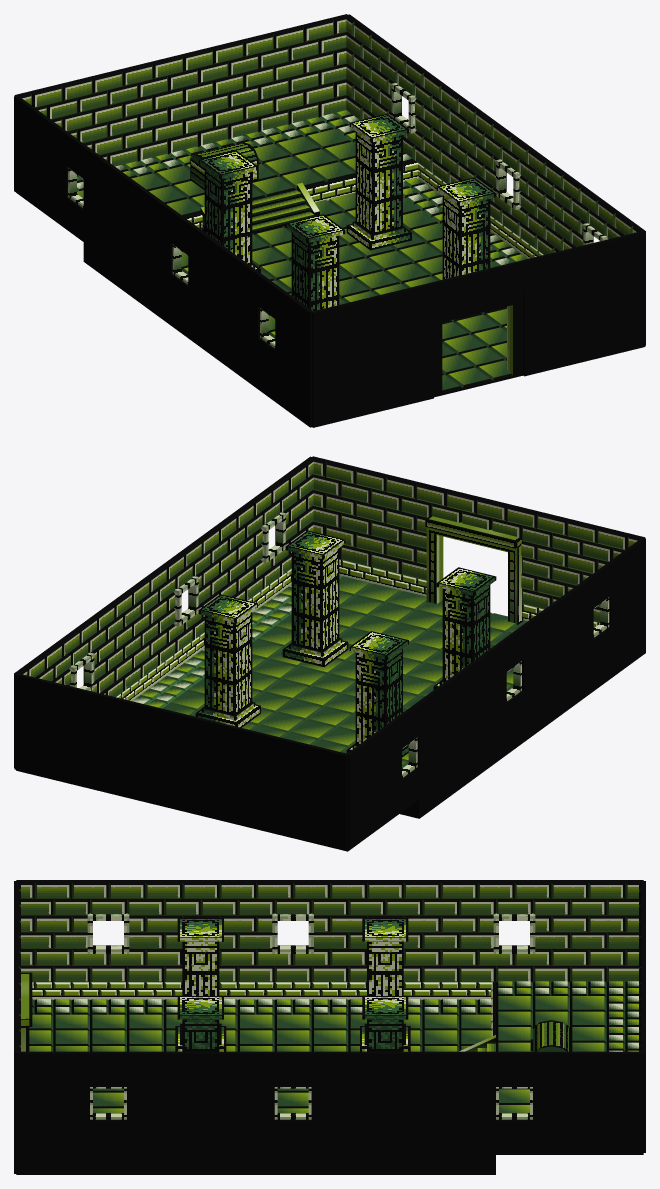
File: 3d_gameboy_style_dungeon_room.glb
3 renders of one model, top to bottom at view 1: azimuth 30°, elevation 25°; view 2: azimuth 150°, elevation 25°; view 3: azimuth 270°, elevation 25°, orthographic. The views are drawn at different scales.
Visible parts, largest first — view 1: cube_418, cube_229, cube_9, cube_235, cube_1, cube_5, cube_230, cube_10, cube_236, cube_2, cube_369, cube_231 (+116 smaller); view 2: cube_418, cube_5, cube_235, cube_1, cube_229, cube_234, cube_9, cube_230, cube_236, cube_2, cube_10, cube_275 (+136 smaller); view 3: cube_337, cube_340, cube_343, cube_359, cube_166, cube_168, cube_170, cube_173, cube_219, cube_221, cube_149, cube_172 (+165 smaller).
Boxes of the visible parts, box(x1,y1,x2,y2) form: cube_418: box(434, 294, 523, 395); cube_229: box(291, 260, 339, 303); cube_9: box(204, 196, 252, 239); cube_235: box(442, 223, 490, 266); cube_1: box(355, 159, 402, 203); cube_5: box(355, 191, 402, 234); cube_230: box(291, 232, 339, 272); cube_10: box(204, 168, 252, 208); cube_236: box(442, 195, 490, 235); cube_2: box(355, 131, 402, 171); cube_369: box(312, 304, 343, 344); cube_231: box(285, 214, 345, 243); cube_418: box(425, 515, 523, 625); cube_5: box(204, 671, 252, 715); cube_235: box(291, 576, 339, 619); cube_1: box(204, 640, 252, 683); cube_229: box(442, 613, 490, 656); cube_234: box(291, 608, 339, 651); cube_9: box(355, 677, 402, 720); cube_230: box(442, 585, 490, 625); cube_236: box(291, 548, 339, 588); cube_2: box(204, 612, 252, 652); cube_10: box(355, 649, 402, 688); cube_275: box(316, 747, 348, 787); cube_337: box(422, 880, 459, 915); cube_340: box(385, 880, 422, 915); cube_343: box(348, 880, 385, 915); cube_359: box(200, 880, 237, 915); cube_166: box(422, 1051, 459, 1086); cube_168: box(385, 1051, 422, 1086); cube_170: box(348, 1051, 385, 1086); cube_173: box(274, 1051, 311, 1086); cube_219: box(237, 1051, 274, 1086); cube_221: box(200, 1051, 237, 1086); cube_149: box(606, 1051, 643, 1086); cube_172: box(311, 1051, 348, 1086).
Size of the model in its own units: 11.12 by 3.62 by 17.12.
10 materials, 10 textured.
